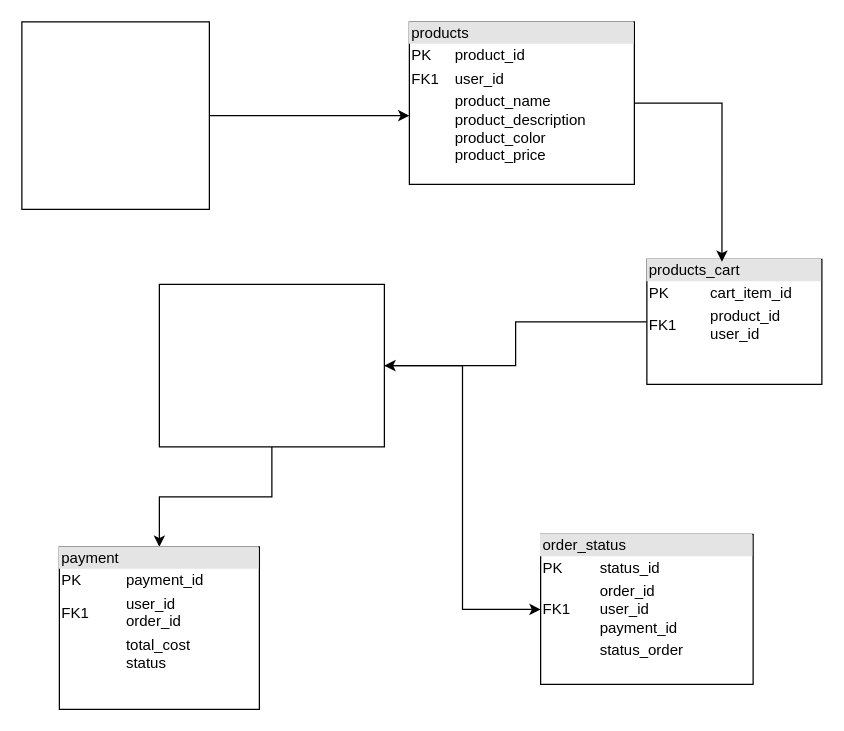
The diagram is 844 pixels wide and 731 high, and some of its shapes have lost their labels. The centre of each missing label's shape, as x and y in pixels:
orders PK order_id FK1 user_id cart_item_id quantity discount: the point at 271,365
users PK user_id user_name email_id password address contact: the point at 115,115
